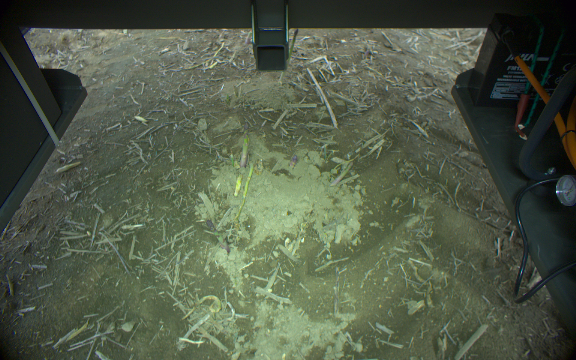aspa: (204, 220, 230, 254), (288, 29, 299, 62), (240, 135, 249, 168), (234, 173, 242, 194), (288, 154, 298, 169)
